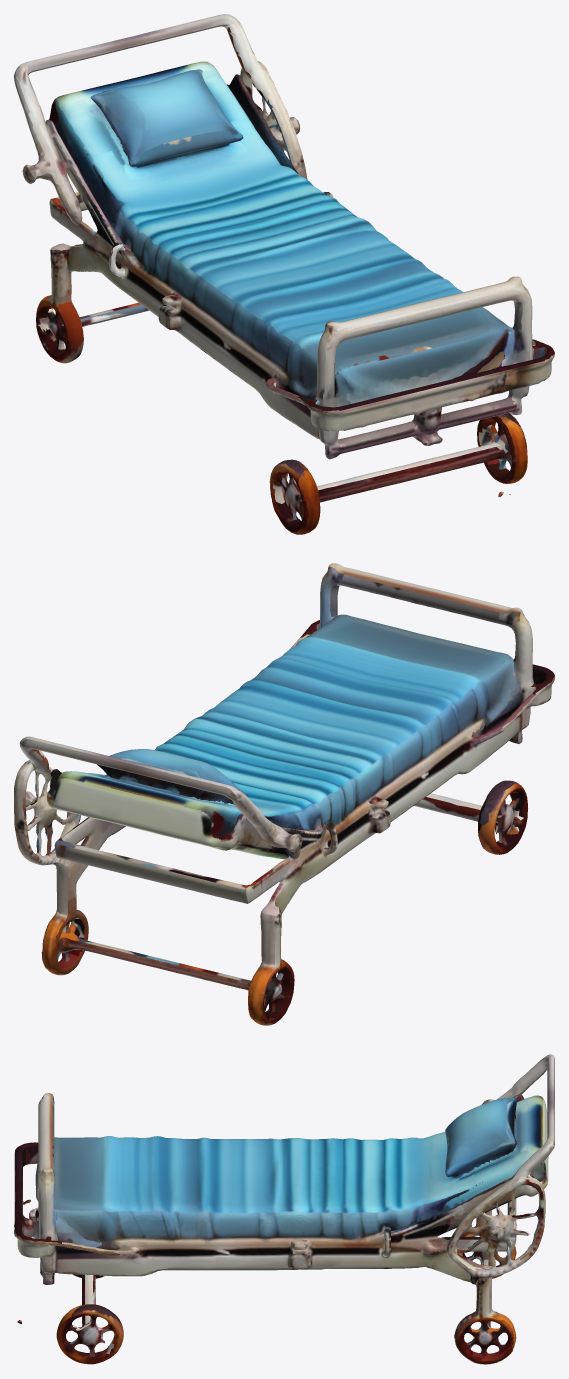
The model's file is camilla_hospital.glb.
3 renders of one model, top to bottom at view 1: azimuth 30°, elevation 25°; view 2: azimuth 150°, elevation 25°; view 3: azimuth 270°, elevation 25°, orthographic. The views are drawn at different scales.
Visible parts, largest first — view 1: tmp8iqyxmgt.ply; view 2: tmp8iqyxmgt.ply; view 3: tmp8iqyxmgt.ply.
Part boxes in pixels (x1,y1,x2,y2): tmp8iqyxmgt.ply: (14,14,554,534); tmp8iqyxmgt.ply: (14,563,554,1025); tmp8iqyxmgt.ply: (14,1054,554,1364).
Bounding box in the file's own units: 0.4896 × 0.4542 × 0.9891.
1 material, 1 textured.
